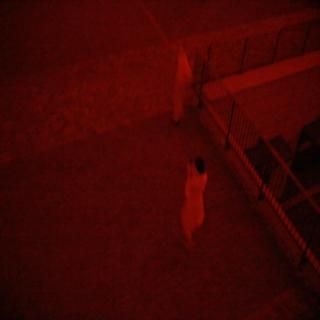person: (175, 148, 216, 252)
